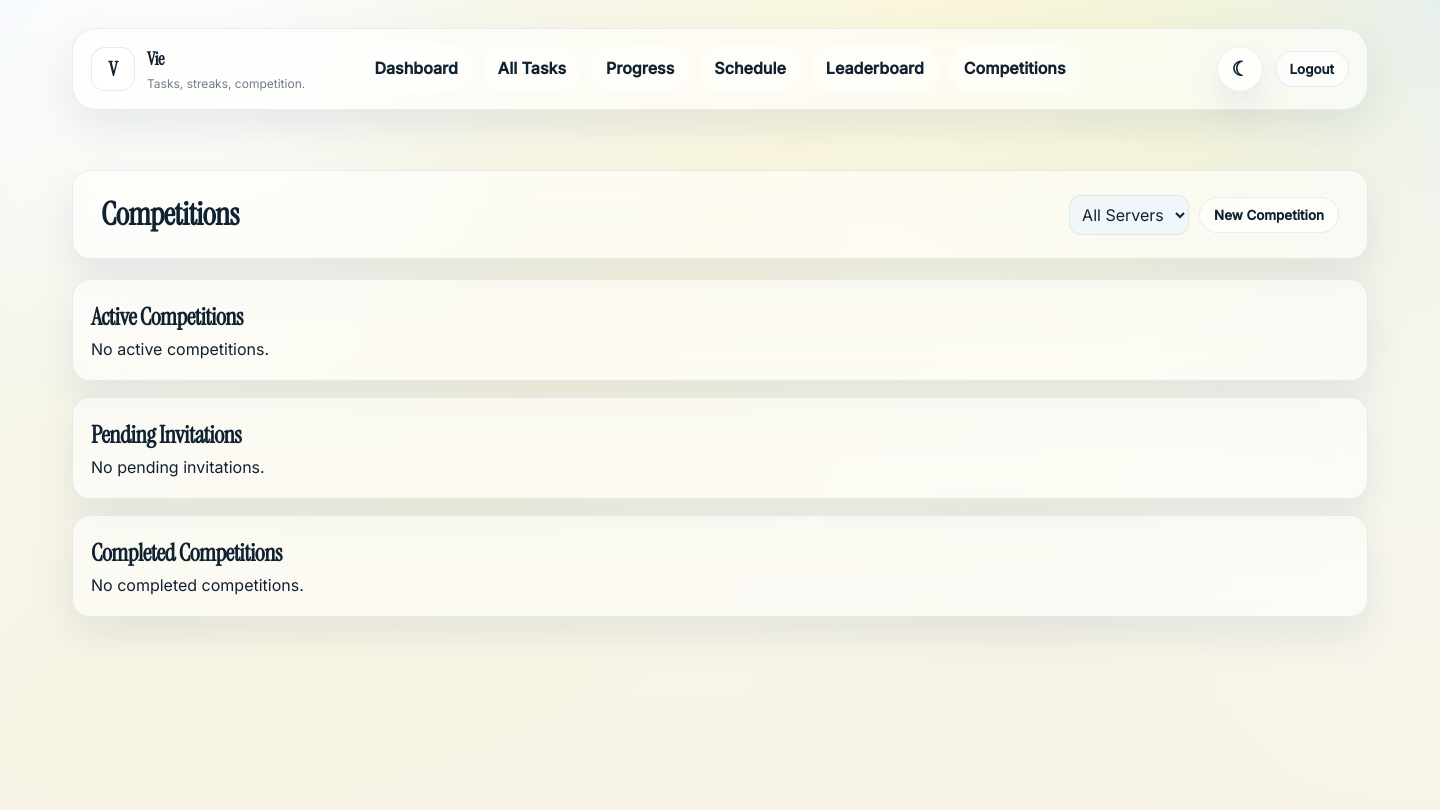
Test: Competitions page › shows New Competition form when button is clicked
Click the button "New Competition": (1269, 215) [1199, 197, 1339, 233]
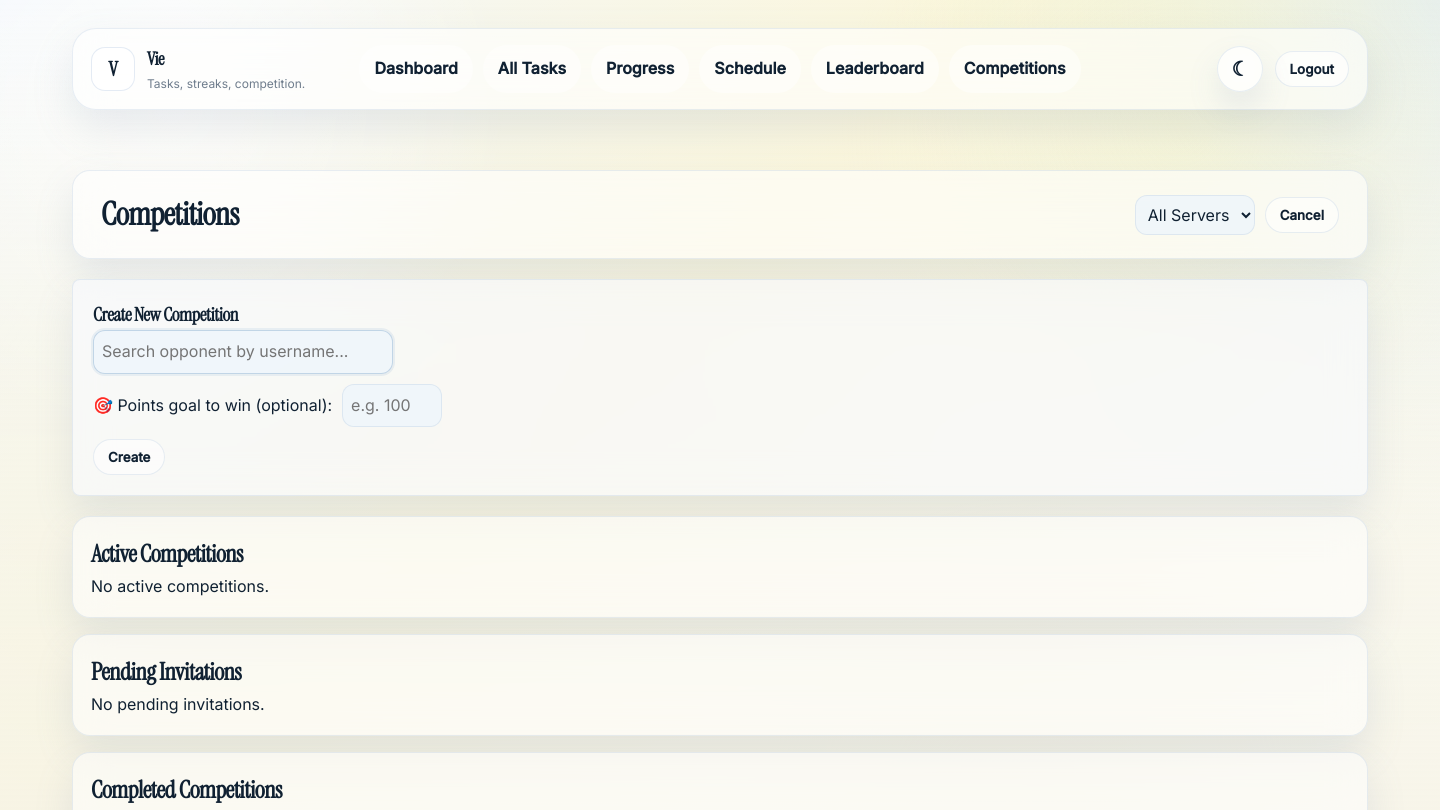
Check: the field with placeholder "Search opponent by username..." is shown, box [93, 330, 393, 374]
